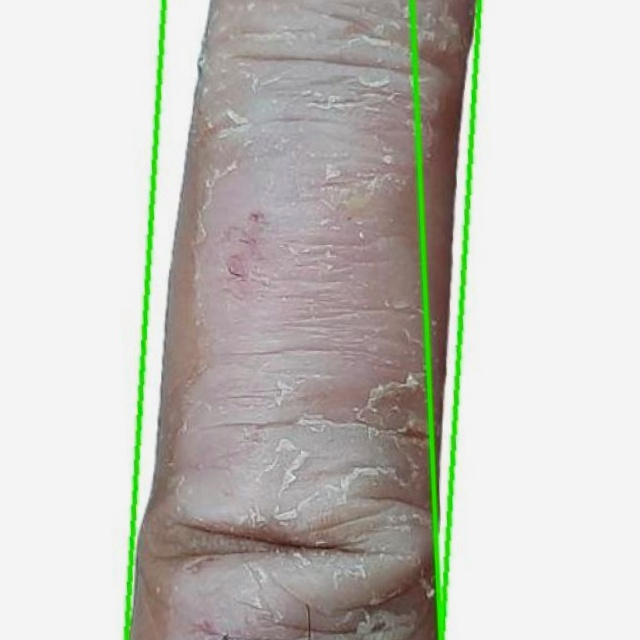Eczema: (126, 0, 478, 639)
